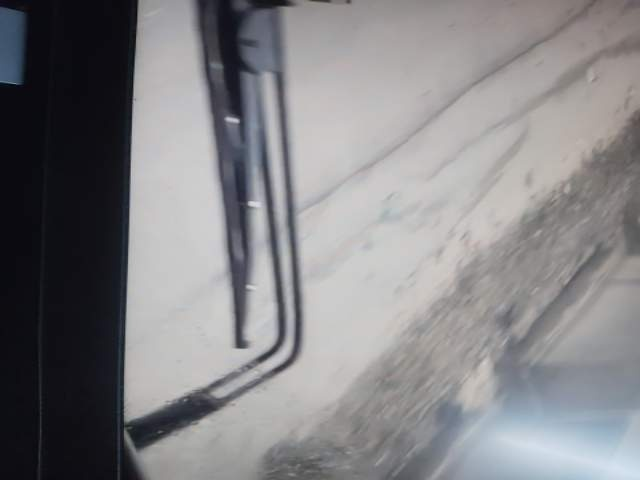pothole: (149, 311, 249, 391)
